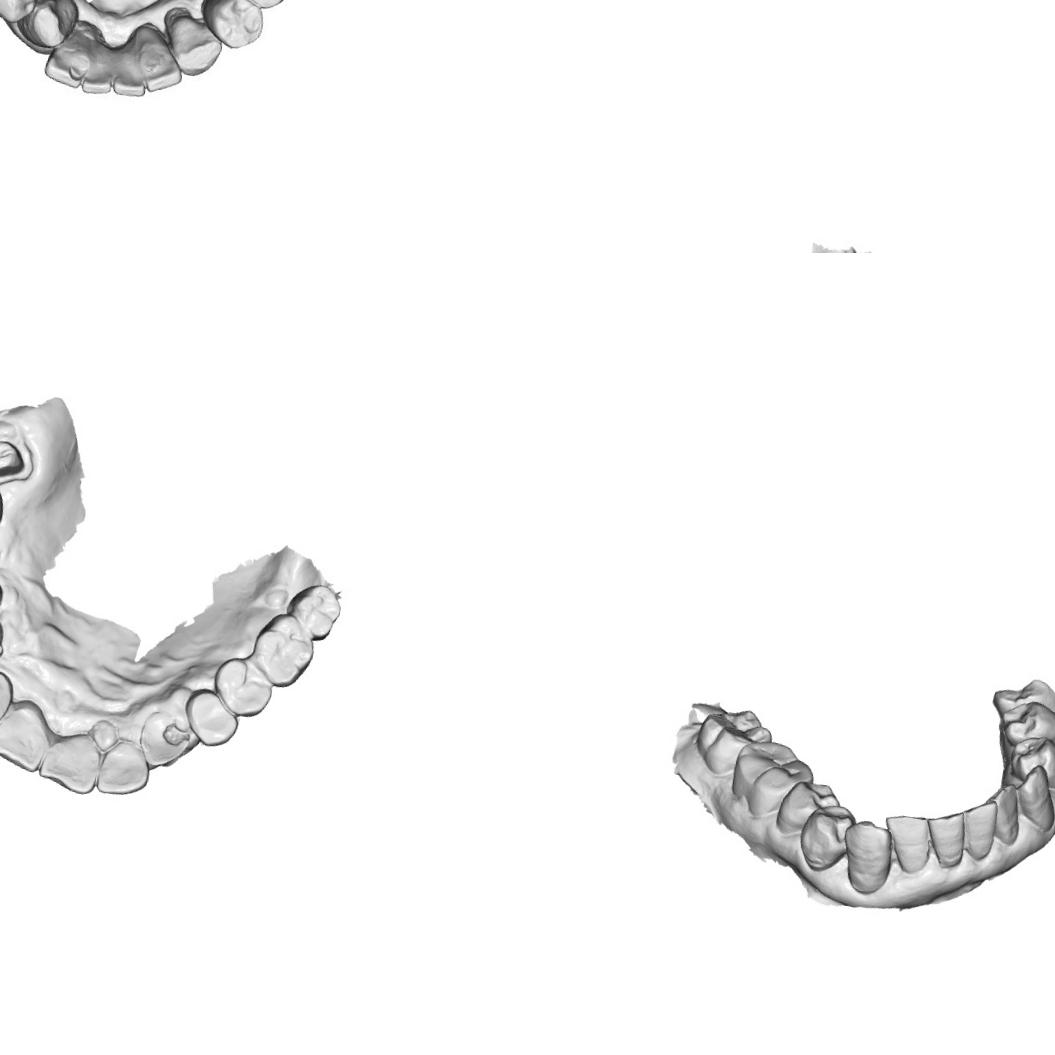canine: (157, 5, 228, 81), (834, 815, 898, 899), (134, 708, 196, 772), (13, 0, 82, 52), (1008, 760, 1055, 835)
crown: (0, 430, 36, 490)
incisor: (34, 725, 103, 798), (0, 693, 56, 774), (876, 809, 936, 878), (94, 735, 154, 801), (979, 778, 1028, 849), (953, 794, 1001, 863), (920, 805, 970, 870), (42, 41, 88, 90), (79, 43, 118, 98), (140, 54, 184, 98), (110, 66, 148, 102), (0, 665, 17, 735)
molar: (727, 734, 820, 826), (690, 701, 776, 784), (246, 608, 320, 692), (282, 580, 345, 644)
premolar: (793, 798, 860, 878), (770, 775, 844, 846), (208, 652, 277, 722), (179, 684, 244, 752), (197, 0, 268, 53), (994, 695, 1055, 753), (1006, 730, 1055, 790), (0, 0, 43, 27)
